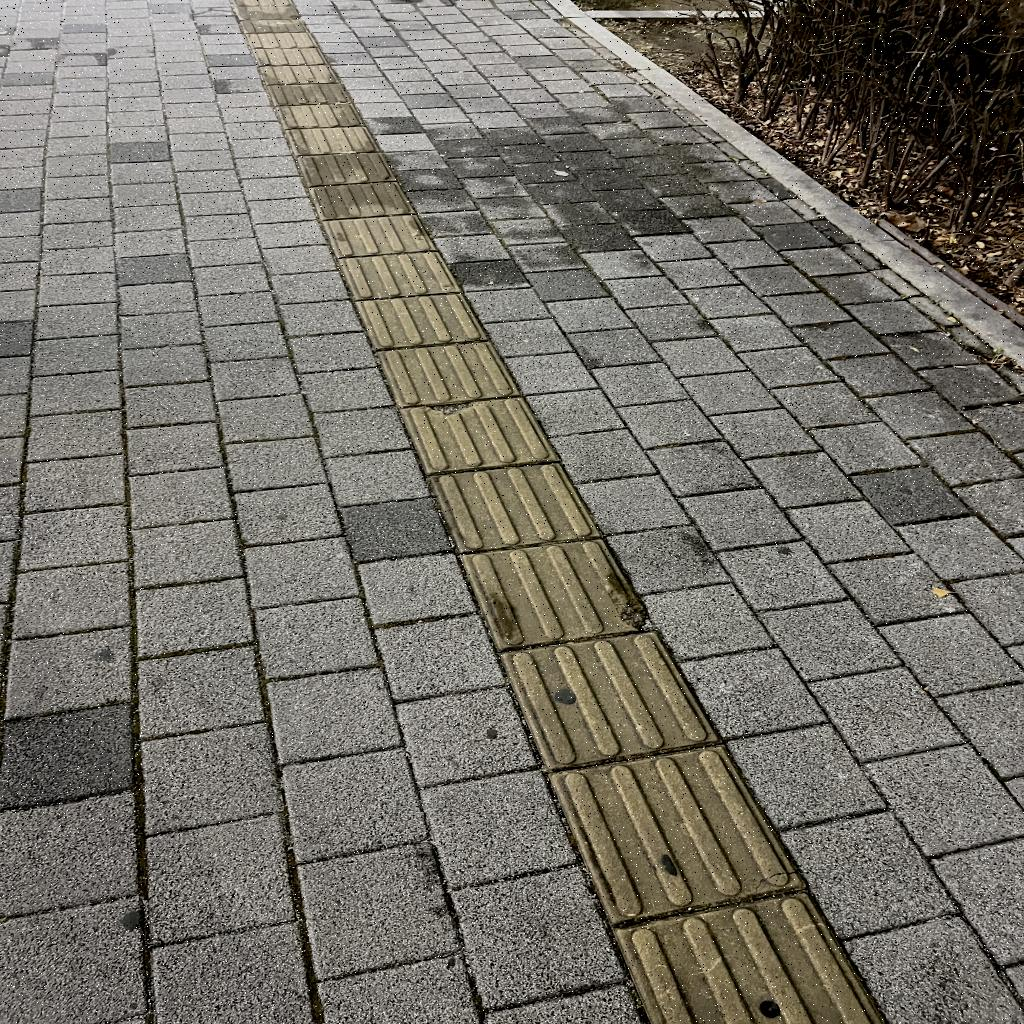Straight block broken: (463, 533, 655, 653), (399, 393, 559, 476), (339, 250, 460, 300), (323, 214, 436, 258)
Straight block normal: (551, 731, 802, 927), (501, 621, 718, 774), (431, 460, 600, 552), (379, 337, 521, 409), (355, 290, 488, 350)
